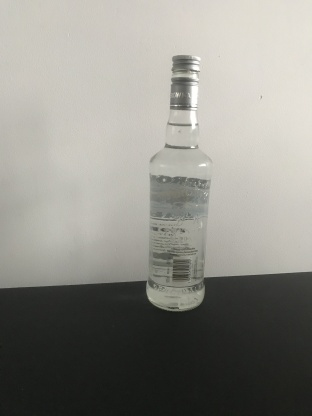nakretka: (168, 53, 202, 110)
